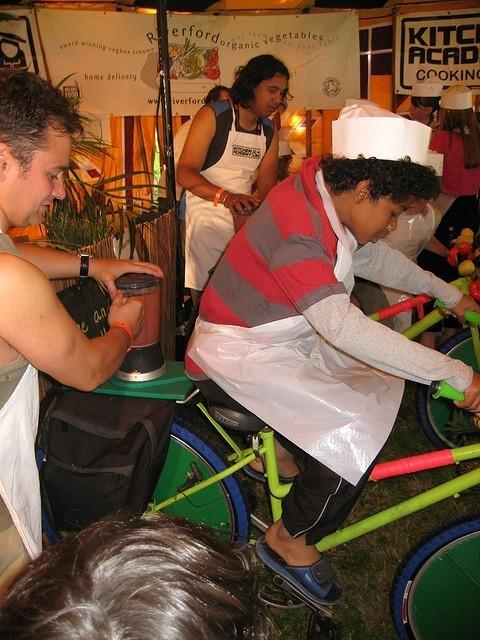bicycle: (146, 386, 480, 632)
